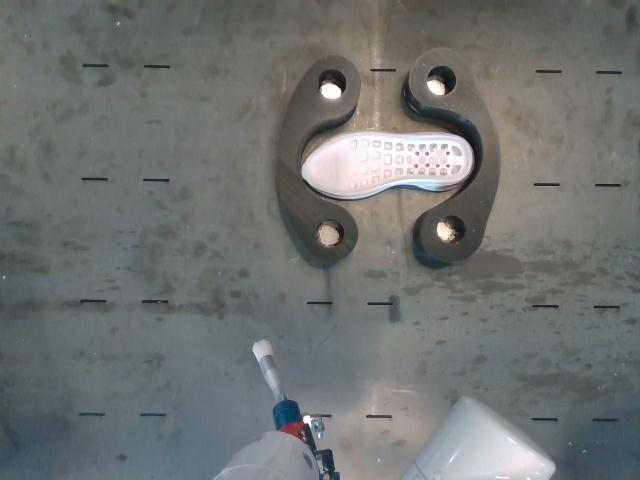shoes: (302, 133, 471, 193)
